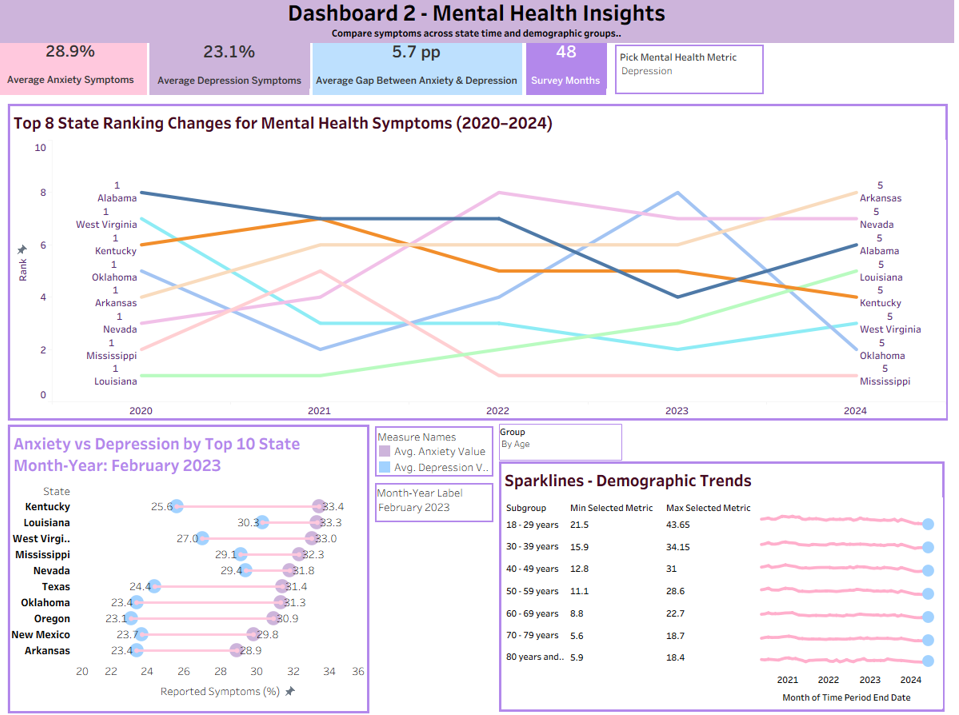

What the dashboard file says about the page in this screenshot:
{"tool":"tableau","page":{"name":"Dashboard 2 - Mental Health Insights","canvas":[1800,1100],"ordinal":1},"visuals":[{"type":"text","box":[0,0,1791,73.3]},{"type":"worksheet","title":"Average Anxiety Symptoms","mark":"Automatic","box":[0,73,251,80]},{"type":"worksheet","title":"KPI - Survey Periods","mark":"Automatic","box":[928,73,197,80]},{"type":"worksheet","title":"KPI - Average Depression","mark":"Automatic","box":[256,74,269,80]},{"type":"worksheet","title":"KPI - Anxiety Depression Gap","mark":"Automatic","box":[530,74,393,80]},{"type":"parameter","param":"[Parameters].[Parameter 1]","box":[1157,78,310,60]},{"type":"worksheet","title":"Bump Chart","mark":"Line","cols":["Year (date)"],"box":[16.5,166.2,1762.5,484]},{"type":"filter","title":"Sparklines - Demographic Trends","param":"[federated.180qeyd17m9q7r1cjbm7q0wrwssg].[none:Group:nk]","box":[937.5,655.1,231,56.2]},{"type":"worksheet","title":"Dumbbell - Anxiety vs Depression","mark":"Circle","rows":["State"],"box":[19,657,716,434]},{"type":"worksheet","title":"Sparklines - Demographic Trends","mark":"Line","rows":["Subgroup","Calculation_0808207699316752","Calculation_0808207699390481","Calculation_0808207667912704","Calculation_0808207703715858"],"cols":["Time Period End Date"],"box":[937.5,712.6,835.5,382.6]},{"type":"filter","title":"Dumbbell - Anxiety vs Depression","param":"[federated.180qeyd17m9q7r1cjbm7q0wrwssg].[none:Calculation_0808207677734920:nk]","box":[733,720,191,83]},{"type":"legend","title":"Dumbbell - Anxiety vs Depression","param":"[federated.180qeyd17m9q7r1cjbm7q0wrwssg].[:Measure Names]","box":[734,810,193,99]}]}

Visuals, with their boxes on the page's 1800x1100 design canvas (x1, y1, x2, y2). These are canvas units, not pixel positions in the 959x715 screenshot, which may show the page scaled, cropped or inside an application window:
text: 0/0/1791/73
"Average Anxiety Symptoms" worksheet: 0/73/251/153
"KPI - Survey Periods" worksheet: 928/73/1125/153
"KPI - Average Depression" worksheet: 256/74/525/154
"KPI - Anxiety Depression Gap" worksheet: 530/74/923/154
parameter: 1157/78/1467/138
"Bump Chart" worksheet (Line marks): 16/166/1779/650
"Sparklines - Demographic Trends" filter: 938/655/1168/711
"Dumbbell - Anxiety vs Depression" worksheet (Circle marks): 19/657/735/1091
"Sparklines - Demographic Trends" worksheet (Line marks): 938/713/1773/1095
"Dumbbell - Anxiety vs Depression" filter: 733/720/924/803
"Dumbbell - Anxiety vs Depression" legend: 734/810/927/909
